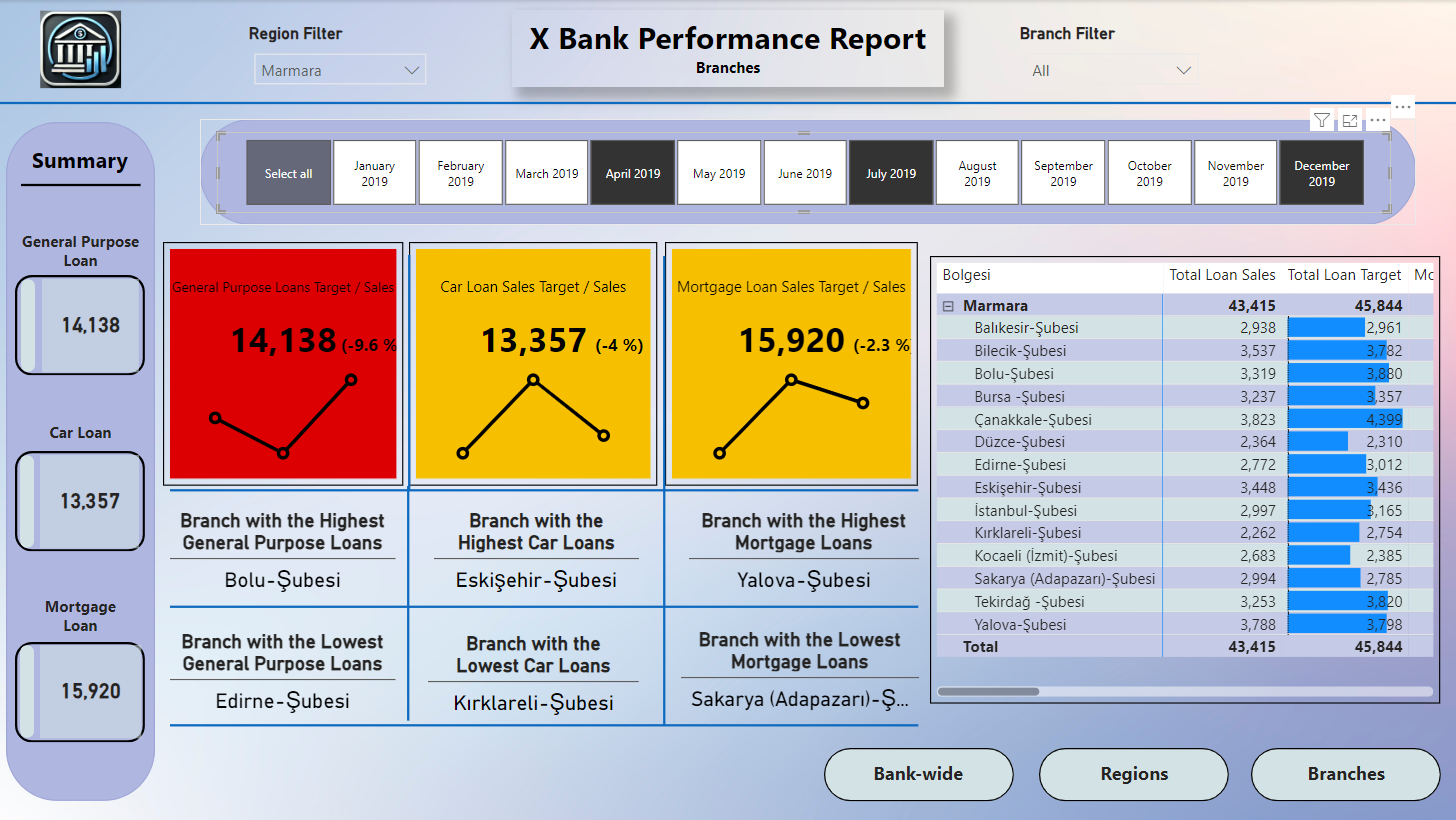

This screenshot's page, from the dashboard's own definition file:
{"tool":"powerbi","page":{"name":"Branches","canvas":[1280,720],"ordinal":2},"visuals":[{"type":"textbox","box":[450.4,8.8,379.3,68.5],"z":0},{"type":"shape","box":[0,58,1280.2,65],"z":1000},{"type":"shape","box":[6.1,107.1,130.8,596.2],"z":2000},{"type":"textbox","box":[14.2,123.3,114.2,39.2],"z":3000},{"type":"shape","box":[19.3,147.5,105.4,29.9],"z":4000},{"type":"shape","box":[14.2,241.7,114.2,88.3],"z":5000},{"type":"shape","box":[14.2,396.2,114.2,88.3],"z":6000},{"type":"shape","box":[14.2,563.3,114.2,88.3],"z":7000},{"type":"textbox","box":[7.5,197.5,127.5,49.2],"z":8000},{"type":"shape","box":[19.2,245,12.5,81.7],"z":9000},{"type":"shape","box":[18.3,399.5,12.5,81.7],"z":10000},{"type":"shape","box":[18.3,566.7,12.5,81.7],"z":11000},{"type":"textbox","box":[30,365.4,83.3,30.8],"z":12000},{"type":"image","box":[20,4.2,102.5,78.3],"z":13000},{"type":"textbox","box":[20,518.3,102.5,45],"z":14000},{"type":"shape","box":[1099.2,656.7,166.7,46.7],"z":15000},{"type":"shape","box":[913.3,656.7,166.7,46.7],"z":16000},{"type":"shape","box":[724.2,656.7,166.7,46.7],"z":17000},{"type":"textbox","box":[745.8,663.3,123.3,33.3],"z":18000},{"type":"textbox","box":[935,663.3,123.3,33.3],"z":19000},{"type":"textbox","box":[1120.8,663.3,123.3,33.3],"z":20000},{"type":"shape","box":[176.5,104.5,1067.7,93.1],"z":21000},{"type":"slicer","fields":{"Values":["Loans.Ay"]},"box":[191.4,115.9,1030.8,71.1],"z":22000},{"type":"card","fields":{"Values":["Measurements.General Purpose Loan Sales"]},"box":[37.8,245,85.2,81.7],"z":23000},{"type":"card","fields":{"Values":["Measurements.Car Loan Sales"]},"box":[36,399.5,86.9,81.7],"z":24000},{"type":"card","fields":{"Values":["Measurements.Mortgage Loan Sales"]},"box":[36,566.3,88.7,81.7],"z":25000},{"type":"slicer","title":"Region Filter","fields":{"Values":["Branches.Bolgesi"]},"box":[214,21.1,171.1,56.1],"z":26000},{"type":"KPIStatusWithHistory1446562283967","title":"Car Loan Sales","fields":{"Values":["Measurements.Car Loan Sales"],"Targets":["Measurements.Car Loan Total Target"],"Category":["Loans.Ay"]},"box":[360,212.7,218.2,213.6],"z":27000},{"type":"KPIStatusWithHistory1446562283967","title":"General Purpose Loan Sales","fields":{"Values":["Measurements.General Purpose Loan Sales"],"Targets":["Measurements.General Purpose Loan Total Target"],"Category":["Loans.Ay"]},"box":[143.6,212.7,210.9,213.6],"z":28000},{"type":"KPIStatusWithHistory1446562283967","title":"Mortgage Loan Sales ","fields":{"Values":["Measurements.Mortgage Loan Sales"],"Targets":["Measurements.Mortgage Loan Total Target"],"Category":["Loans.Ay"]},"box":[584.5,212.7,221.8,213.6],"z":29000},{"type":"card","title":"Branch with the Highest General Purpose Loans","fields":{"Values":["Min(Branches.Sube Adı)"]},"box":[150.4,446.5,197.7,80.2],"z":30000},{"type":"card","title":"Branch with the Highest Mortgage Loans","fields":{"Values":["Min(Branches.Sube Adı)"]},"box":[605.6,446.5,201.5,79.3],"z":31000},{"type":"card","title":"Branch with the Highest Car Loans","fields":{"Values":["Min(Branches.Sube Adı)"]},"box":[382.3,446.5,179.8,79.3],"z":32000},{"type":"card","title":"Branch with the Lowest General Purpose Loans","fields":{"Values":["Min(Branches.Sube Adı)"]},"box":[150.4,552.9,197.7,80.2],"z":33000},{"type":"card","title":"Branch with the Lowest Mortgage Loans","fields":{"Values":["Min(Branches.Sube Adı)"]},"box":[598.6,551.1,208.5,79.3],"z":34000},{"type":"card","title":"Branch with the Lowest Car Loans","fields":{"Values":["Min(Branches.Sube Adı)"]},"box":[376.8,554.7,185.2,79.3],"z":35000},{"type":"shape","box":[150.1,423.6,657.2,14.6],"z":36000},{"type":"shape","box":[150.1,630.8,657.2,12.8],"z":37000},{"type":"shape","box":[150.1,525.5,657.2,15.4],"z":38000},{"type":"shape","box":[578.2,224.5,12.7,411.8],"z":39000},{"type":"shape","box":[354.3,426.7,10.9,206.4],"z":40000},{"type":"shape","box":[354.6,224.2,10.9,207.5],"z":41000},{"type":"pivotTable","fields":{"Rows":["Branches.Bolgesi","Branches.Sube Adı"],"Values":["Measurements.Total Loan Sales","Measurements.Total Loan Target","Measurements.Mortgage Loan Sales","Measurements.Mortgage Loan Total Target","Measurements.General Purpose Loan Sales","Measurements.General Purpose Loan Total Target","Measurements.Car Loan Sales","Measurements.Car Loan Total Target"]},"box":[817.3,224.5,448.2,392.7],"z":42000},{"type":"slicer","title":"Branch Filter","fields":{"Values":["Branches.Sube Adı"]},"box":[890.9,20.9,171.8,56.4],"z":43000}]}

Visuals, with their boxes in screenshot pixels (x1, y1, x2, y2), scaled from the page's 1280x720 canvas onto the 1456x820 screenshot:
textbox: l=512, t=10, r=944, b=88
shape: l=0, t=66, r=1455, b=140
shape: l=7, t=122, r=156, b=801
textbox: l=16, t=140, r=146, b=185
shape: l=22, t=168, r=142, b=202
shape: l=16, t=275, r=146, b=376
shape: l=16, t=451, r=146, b=552
shape: l=16, t=642, r=146, b=742
textbox: l=9, t=225, r=154, b=281
shape: l=22, t=279, r=36, b=372
shape: l=21, t=455, r=35, b=548
shape: l=21, t=645, r=35, b=738
textbox: l=34, t=416, r=129, b=451
image: l=23, t=5, r=139, b=94
textbox: l=23, t=590, r=139, b=642
shape: l=1250, t=748, r=1440, b=801
shape: l=1039, t=748, r=1228, b=801
shape: l=824, t=748, r=1013, b=801
textbox: l=848, t=755, r=989, b=793
textbox: l=1064, t=755, r=1204, b=793
textbox: l=1275, t=755, r=1415, b=793
shape: l=201, t=119, r=1415, b=225
slicer - Loans.Ay: l=218, t=132, r=1390, b=213
card - Measurements.General Purpose Loan Sales: l=43, t=279, r=140, b=372
card - Measurements.Car Loan Sales: l=41, t=455, r=140, b=548
card - Measurements.Mortgage Loan Sales: l=41, t=645, r=142, b=738
"Region Filter" slicer: l=243, t=24, r=438, b=88
"Car Loan Sales" KPIStatusWithHistory1446562283967: l=410, t=242, r=658, b=486
"General Purpose Loan Sales" KPIStatusWithHistory1446562283967: l=163, t=242, r=403, b=486
"Mortgage Loan Sales " KPIStatusWithHistory1446562283967: l=665, t=242, r=917, b=486
"Branch with the Highest General Purpose Loans" card: l=171, t=509, r=396, b=600
"Branch with the Highest Mortgage Loans" card: l=689, t=509, r=918, b=599
"Branch with the Highest Car Loans" card: l=435, t=509, r=639, b=599
"Branch with the Lowest General Purpose Loans" card: l=171, t=630, r=396, b=721
"Branch with the Lowest Mortgage Loans" card: l=681, t=628, r=918, b=718
"Branch with the Lowest Car Loans" card: l=429, t=632, r=639, b=722
shape: l=171, t=482, r=918, b=499
shape: l=171, t=718, r=918, b=733
shape: l=171, t=598, r=918, b=616
shape: l=658, t=256, r=672, b=725
shape: l=403, t=486, r=415, b=721
shape: l=403, t=255, r=416, b=492
pivotTable - Branches.Bolgesi x Branches.Sube Adı: l=930, t=256, r=1440, b=703
"Branch Filter" slicer: l=1013, t=24, r=1209, b=88
